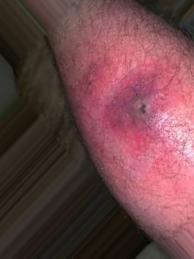Spider: (102, 72, 176, 153)
